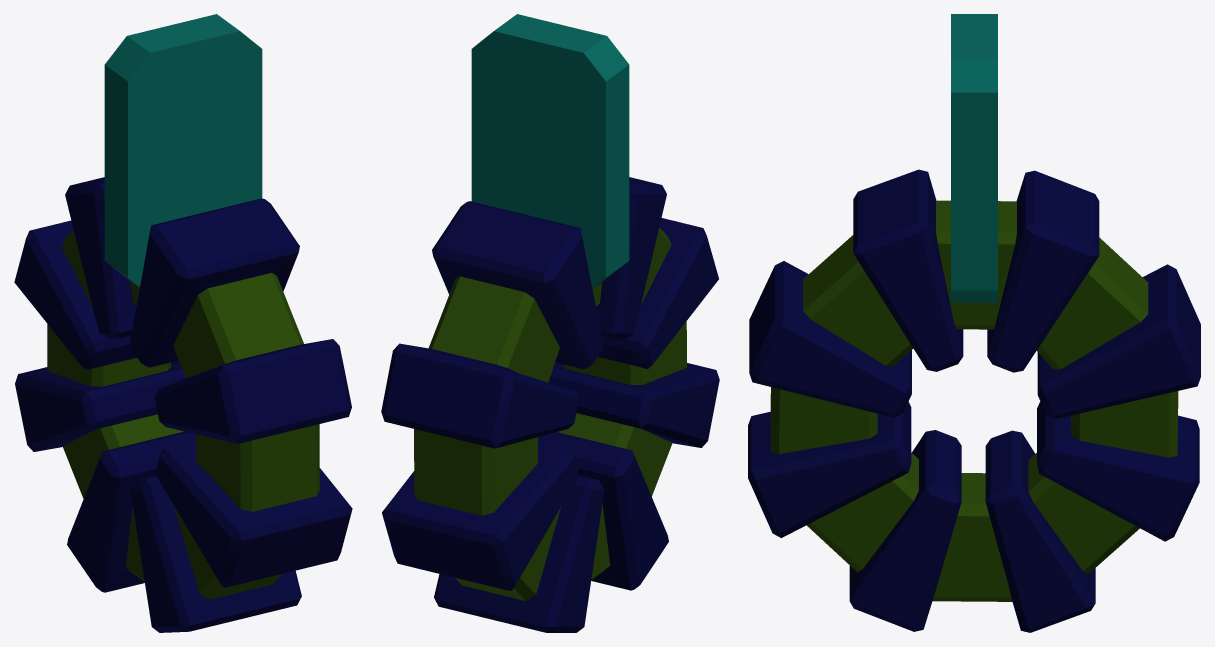
File: OBJ_Accroche_Grapin.fbx
3 views of the same model, side by side, from view 1: azimuth 30°, elevation 25°; view 2: azimuth 150°, elevation 25°; view 3: azimuth 270°, elevation 25° (orthographic).
Parts seen in each view (by area): view 1: Accroche_grappin; view 2: Accroche_grappin; view 3: Accroche_grappin.
Part boxes in pixels (x1,y1,x2,y2): Accroche_grappin: (14,14,352,632); Accroche_grappin: (381,14,719,632); Accroche_grappin: (748,14,1200,632).
Size of the model in its own units: 102 by 412 by 297.
